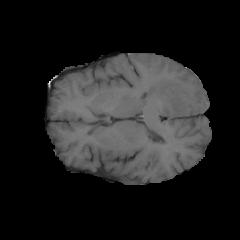glioma: (144, 78, 183, 105)
